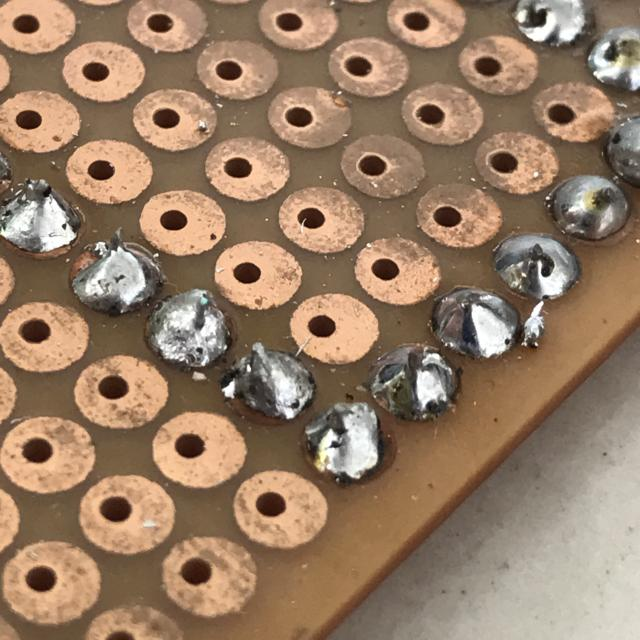good: (363, 337, 465, 429), (427, 278, 528, 368)
hole: (489, 225, 586, 306)
pad_less: (218, 337, 322, 433), (297, 395, 403, 487), (0, 170, 90, 269), (64, 233, 168, 317)
